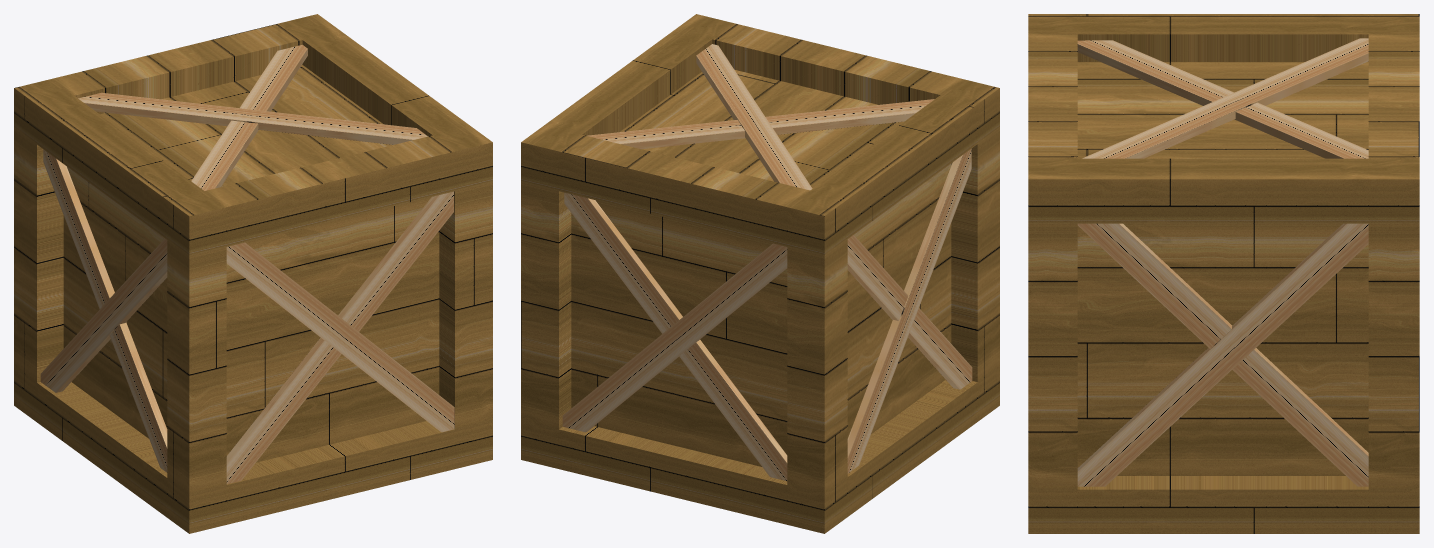
File: Crate.fbx
The picture shows the model from 3 angles, left to right: view 1: azimuth 30°, elevation 25°; view 2: azimuth 150°, elevation 25°; view 3: azimuth 270°, elevation 25°; orthographic projection. The views are drawn at different scales.
Visible parts, largest first — view 1: Cube, Cube.002, Cube.001, Cube.004, Cube.008, Cube.007, Cube.003; view 2: Cube, Cube.012, Cube.011, Cube.007, Cube.003, Cube.008, Cube.004; view 3: Cube, Cube.005, Cube.006, Cube.004, Cube.003.
Part boxes in pixels (box(x1,y1,x2,y2)): Cube: box(14, 14, 492, 533); Cube.002: box(226, 191, 453, 483); Cube.001: box(226, 242, 454, 432); Cube.004: box(78, 92, 427, 144); Cube.008: box(43, 149, 167, 472); Cube.007: box(40, 238, 167, 392); Cube.003: box(191, 44, 307, 190); Cube: box(521, 14, 999, 533); Cube.012: box(564, 192, 787, 480); Cube.011: box(562, 243, 787, 432); Cube.007: box(847, 148, 971, 473); Cube.003: box(587, 99, 934, 149); Cube.008: box(847, 235, 972, 389); Cube.004: box(696, 44, 812, 190); Cube: box(1028, 14, 1419, 533); Cube.005: box(1077, 223, 1368, 486); Cube.006: box(1077, 223, 1368, 486); Cube.004: box(1082, 38, 1368, 158); Cube.003: box(1077, 40, 1368, 158).
Bounding box in the file's own units: 200 × 200 × 200.
